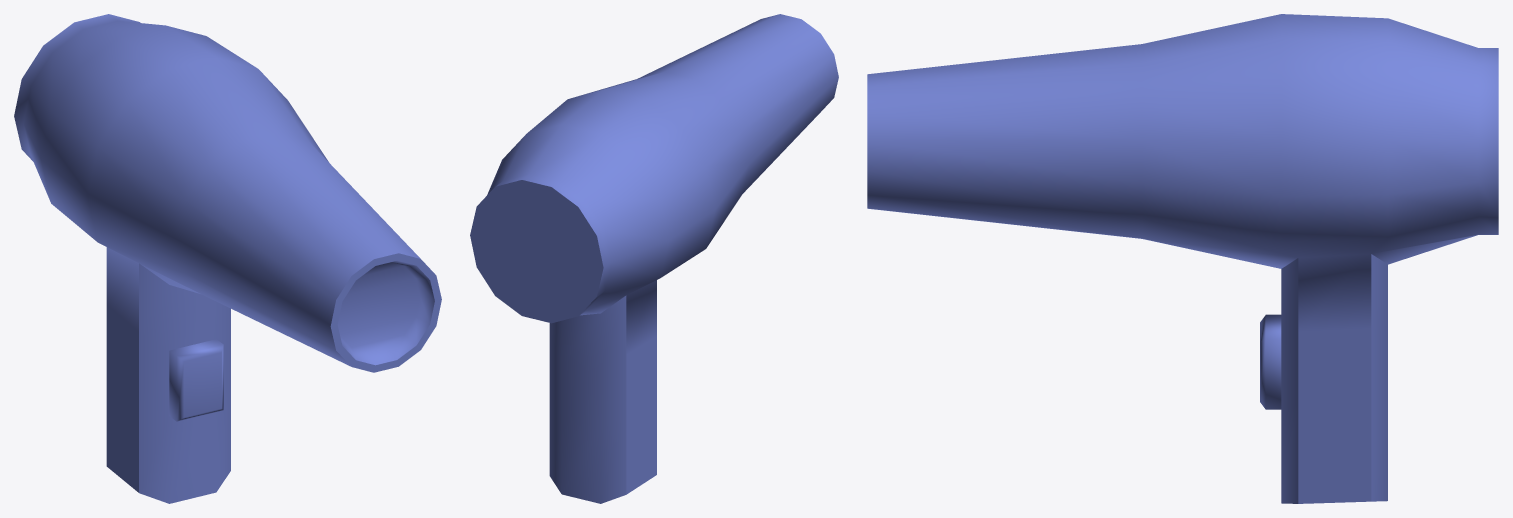
The model's file is secadoraDePelo.fbx.
3 views of the same model, side by side, from view 1: azimuth 30°, elevation 25°; view 2: azimuth 150°, elevation 25°; view 3: azimuth 270°, elevation 25° (orthographic). The views are drawn at different scales.
Parts seen in each view (by area): view 1: secadoraDePelo; view 2: secadoraDePelo; view 3: secadoraDePelo.
Part boxes in pixels (bbox=[...]): secadoraDePelo: bbox=[14, 14, 441, 503]; secadoraDePelo: bbox=[470, 14, 838, 503]; secadoraDePelo: bbox=[867, 14, 1498, 503].
Size of the model in its own units: 0.2177 by 0.4283 by 0.5268.
